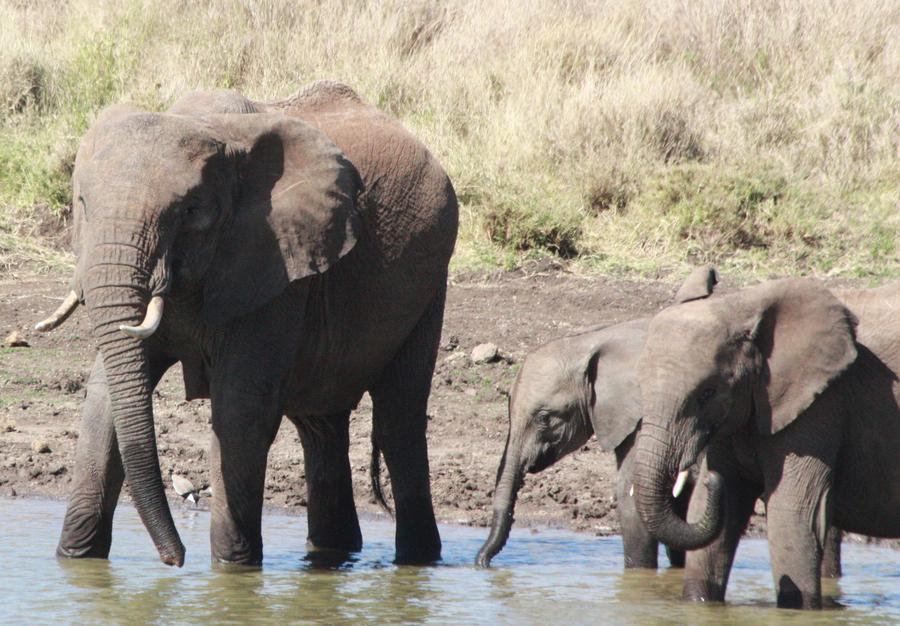elephant: (60, 84, 270, 386)
